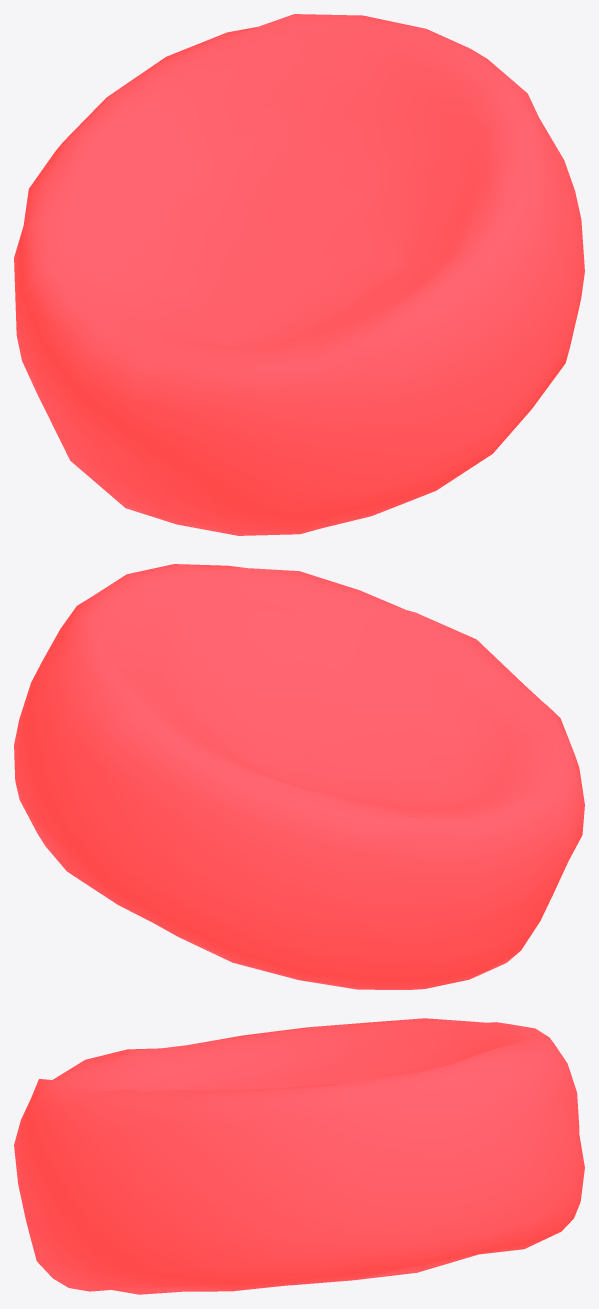
Rendered from red blood cells5.fbx.
3 renders of one model, top to bottom at view 1: azimuth 30°, elevation 25°; view 2: azimuth 150°, elevation 25°; view 3: azimuth 270°, elevation 25°, orthographic. The views are drawn at different scales.
Parts seen in each view (by area): view 1: Cylinder.007; view 2: Cylinder.007; view 3: Cylinder.007.
Part boxes in pixels (x1,y1,x2,y2): Cylinder.007: (14, 14, 584, 535); Cylinder.007: (14, 564, 584, 989); Cylinder.007: (14, 1018, 584, 1294).
Bounding box in the file's own units: 55.82 × 35.47 × 57.39.
